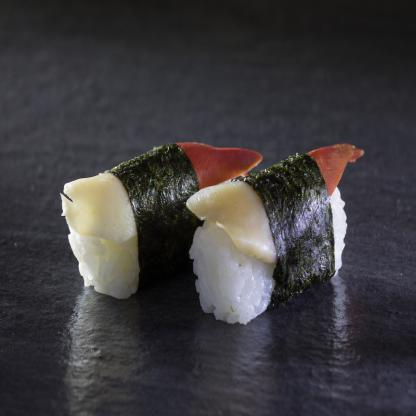hokkigai: (180, 132, 368, 337)
